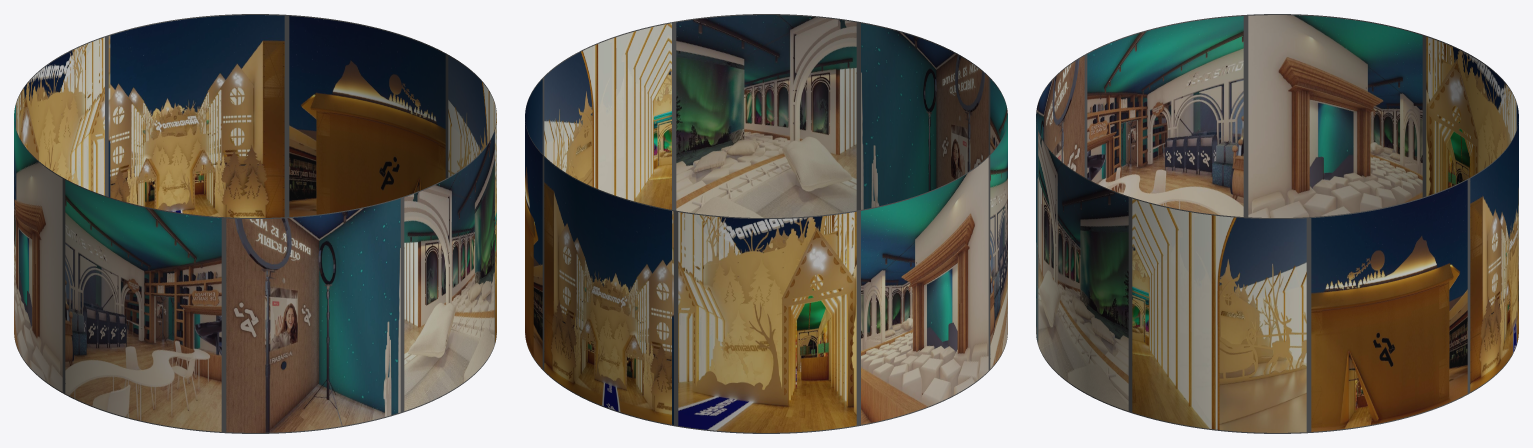
File: cilindroImagenes1.glb
The picture shows the model from 3 angles, left to right: view 1: azimuth 30°, elevation 25°; view 2: azimuth 150°, elevation 25°; view 3: azimuth 270°, elevation 25°; orthographic projection.
Visible parts, largest first — view 1: pantalla1, pantalla5, pantalla2, pantalla6, pantalla8, pantalla3, pantalla4, Marco, pantalla7; view 2: pantalla4, pantalla8, pantalla5, pantalla3, pantalla1, pantalla7, Marco, pantalla2, pantalla6; view 3: pantalla7, pantalla3, pantalla6, pantalla2, pantalla8, pantalla5, pantalla4, Marco, pantalla1.
Part boxes in pixels (x1=…): pantalla1: x1=226, y1=198, x2=400, y2=432; pantalla5: x1=108, y1=15, x2=284, y2=217; pantalla2: x1=65, y1=180, x2=221, y2=431; pantalla6: x1=289, y1=16, x2=445, y2=216; pantalla8: x1=404, y1=132, x2=494, y2=410; pantalla3: x1=14, y1=105, x2=62, y2=391; pantalla4: x1=16, y1=37, x2=104, y2=195; Marco: x1=14, y1=14, x2=496, y2=433; pantalla7: x1=448, y1=56, x2=496, y2=342; pantalla4: x1=678, y1=211, x2=856, y2=432; pantalla8: x1=676, y1=15, x2=856, y2=217; pantalla5: x1=544, y1=157, x2=673, y2=424; pantalla3: x1=861, y1=157, x2=988, y2=424; pantalla1: x1=861, y1=23, x2=988, y2=209; pantalla7: x1=544, y1=23, x2=671, y2=209; Marco: x1=525, y1=14, x2=1007, y2=433; pantalla2: x1=990, y1=79, x2=1007, y2=368; pantalla6: x1=525, y1=79, x2=542, y2=368; pantalla7: x1=1132, y1=198, x2=1306, y2=432; pantalla3: x1=1248, y1=15, x2=1422, y2=217; pantalla6: x1=1311, y1=180, x2=1467, y2=431; pantalla2: x1=1087, y1=16, x2=1243, y2=216; pantalla8: x1=1038, y1=132, x2=1128, y2=410; pantalla5: x1=1470, y1=105, x2=1518, y2=391; pantalla4: x1=1426, y1=37, x2=1516, y2=196; Marco: x1=1036, y1=14, x2=1518, y2=433; pantalla1: x1=1036, y1=56, x2=1084, y2=342.
Size of the model in its own units: 158 by 78.1 by 158.
Materials: 9 (8 with a texture image).
